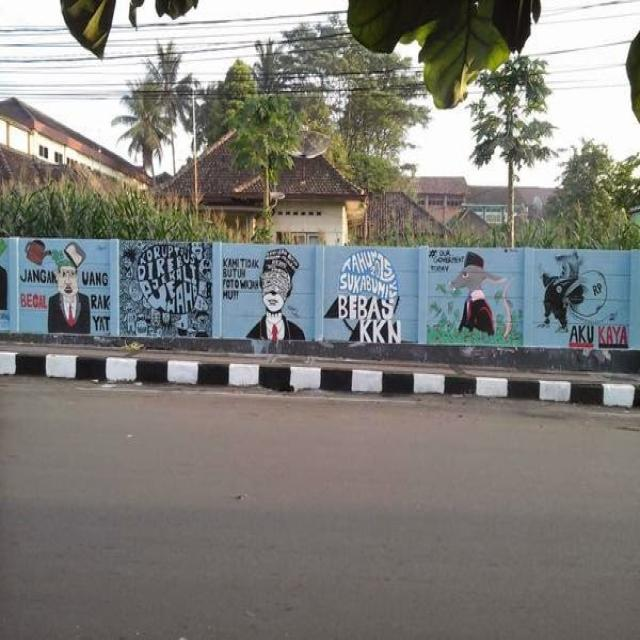-: (426, 248, 526, 347), (538, 250, 632, 350), (120, 238, 214, 338), (20, 241, 111, 338), (220, 248, 306, 343), (325, 250, 403, 343), (0, 238, 11, 328)
